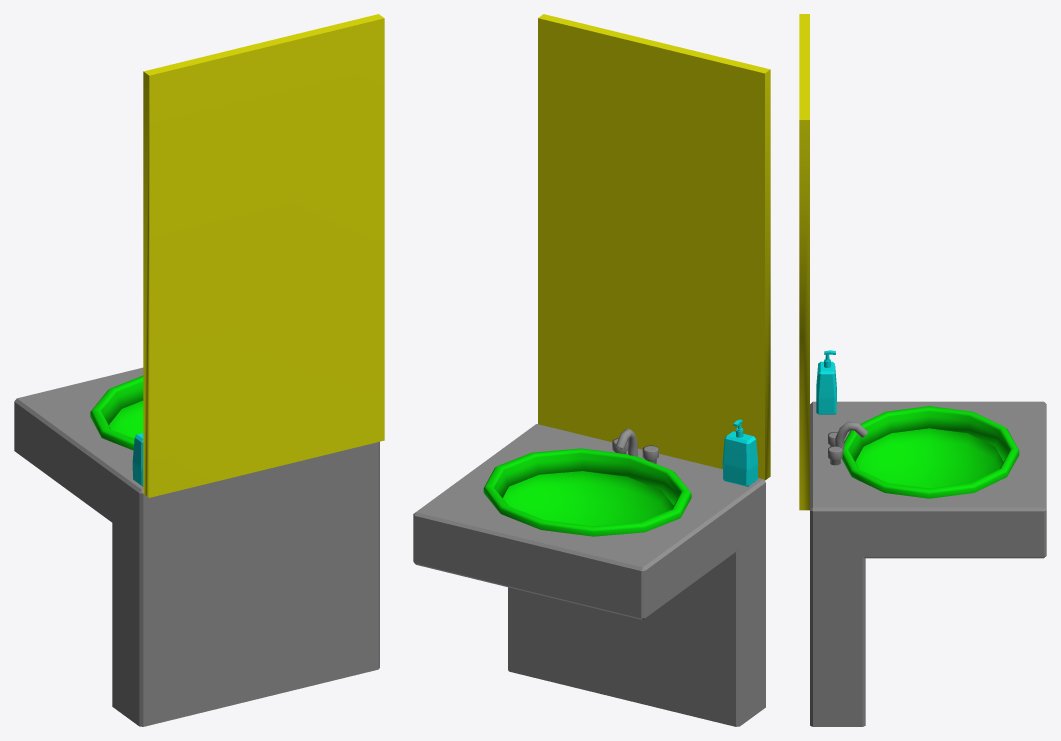
The model's file is RestroomSink.fbx.
The picture shows the model from 3 angles, left to right: view 1: azimuth 30°, elevation 25°; view 2: azimuth 150°, elevation 25°; view 3: azimuth 270°, elevation 25°; orthographic projection. The views are drawn at different scales.
Parts seen in each view (by area): view 1: RestroomSink; view 2: RestroomSink; view 3: RestroomSink.
Part boxes in pixels (x1,y1,x2,y2): RestroomSink: (14,14,384,726); RestroomSink: (413,14,770,726); RestroomSink: (799,14,1046,726).
Size of the model in its own units: 100 by 260 by 96.41.
